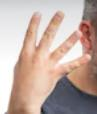right: (12, 8, 92, 107)
